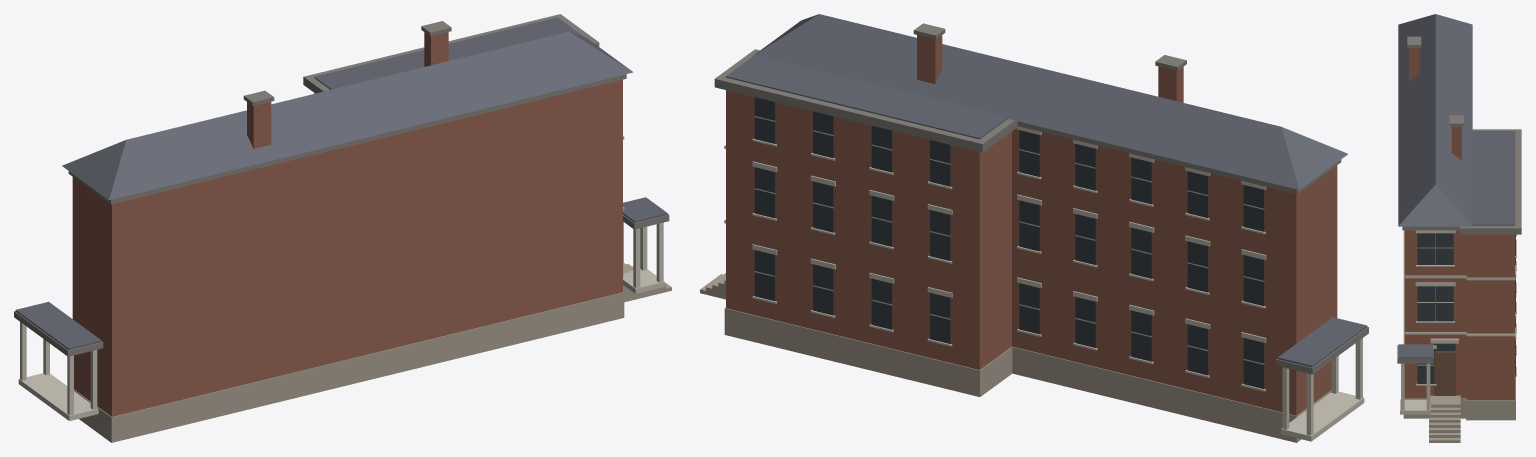
Rendered from house_1626_prairie__draft_1904.glb.
The picture shows the model from 3 angles, left to right: view 1: azimuth 30°, elevation 25°; view 2: azimuth 150°, elevation 25°; view 3: azimuth 270°, elevation 25°; orthographic projection. The views are drawn at different scales.
Parts seen in each view (by area): view 1: house_1626_prairie__draft_1904; view 2: house_1626_prairie__draft_1904; view 3: house_1626_prairie__draft_1904.
Boxes of the visible parts, x1,y1,x2,y2 form: house_1626_prairie__draft_1904: (14, 14, 671, 442); house_1626_prairie__draft_1904: (700, 14, 1368, 442); house_1626_prairie__draft_1904: (1397, 14, 1521, 442).
Size of the model in its own units: 31.45 by 14.92 by 7.
